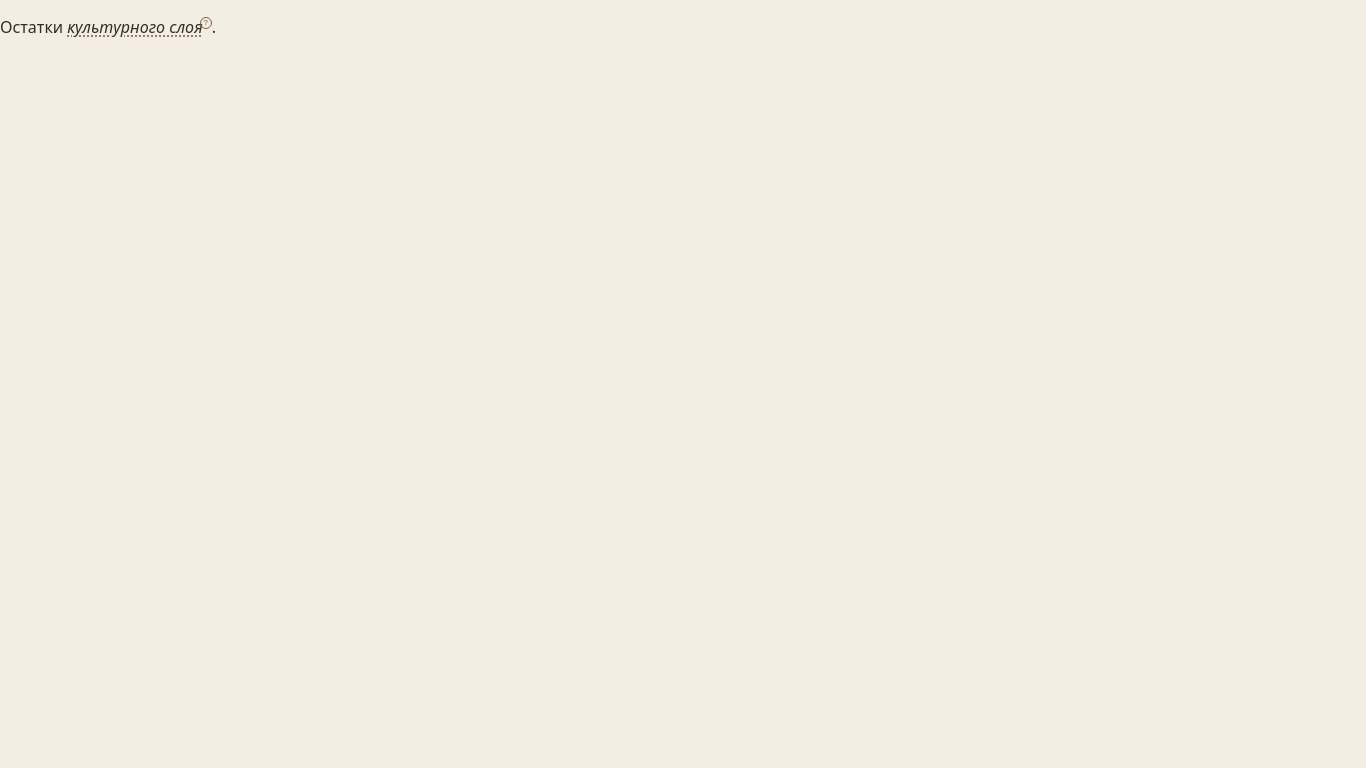
opens a definition from marked HTML, sanitizes it and closes with Escape
This screenshot has width=1366, height=768.
Click the button "культурного слоя ?": x=140, y=27 [67, 16, 212, 38]
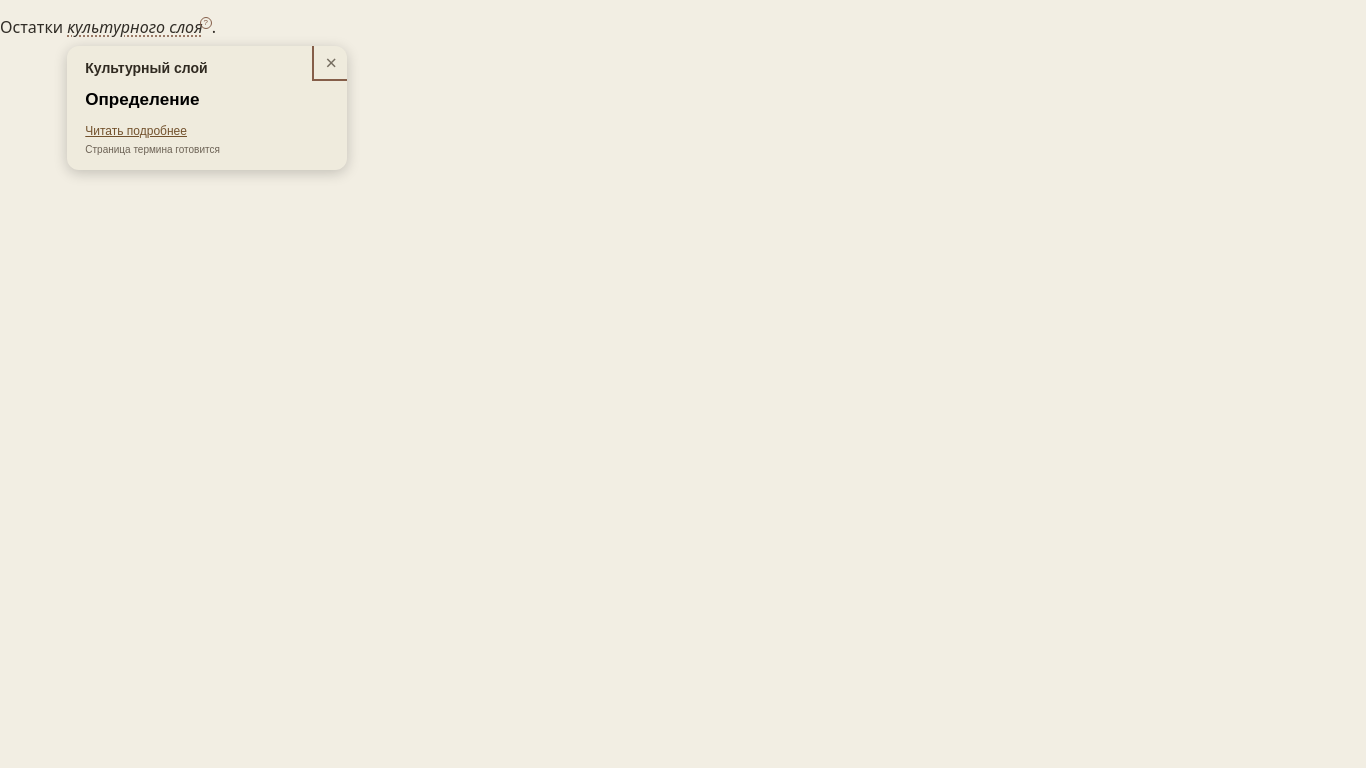
Expected: the text "Определение" is shown, [85, 90, 200, 109]
Expected: the button "Читать подробнее" is disabled, [85, 122, 187, 140]
Press Escape
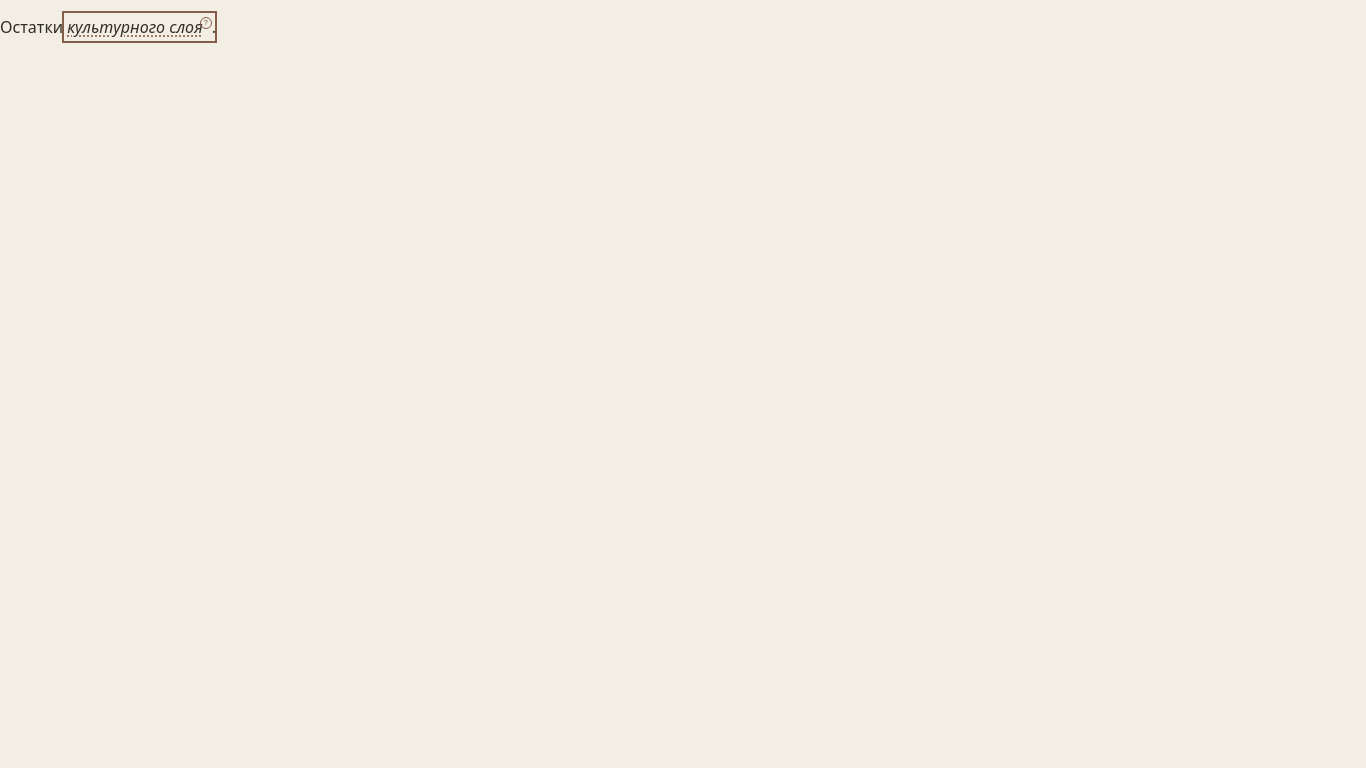
Expected: the dialog is gone
Click the button "культурного слоя ?": x=140, y=27 [67, 16, 212, 38]
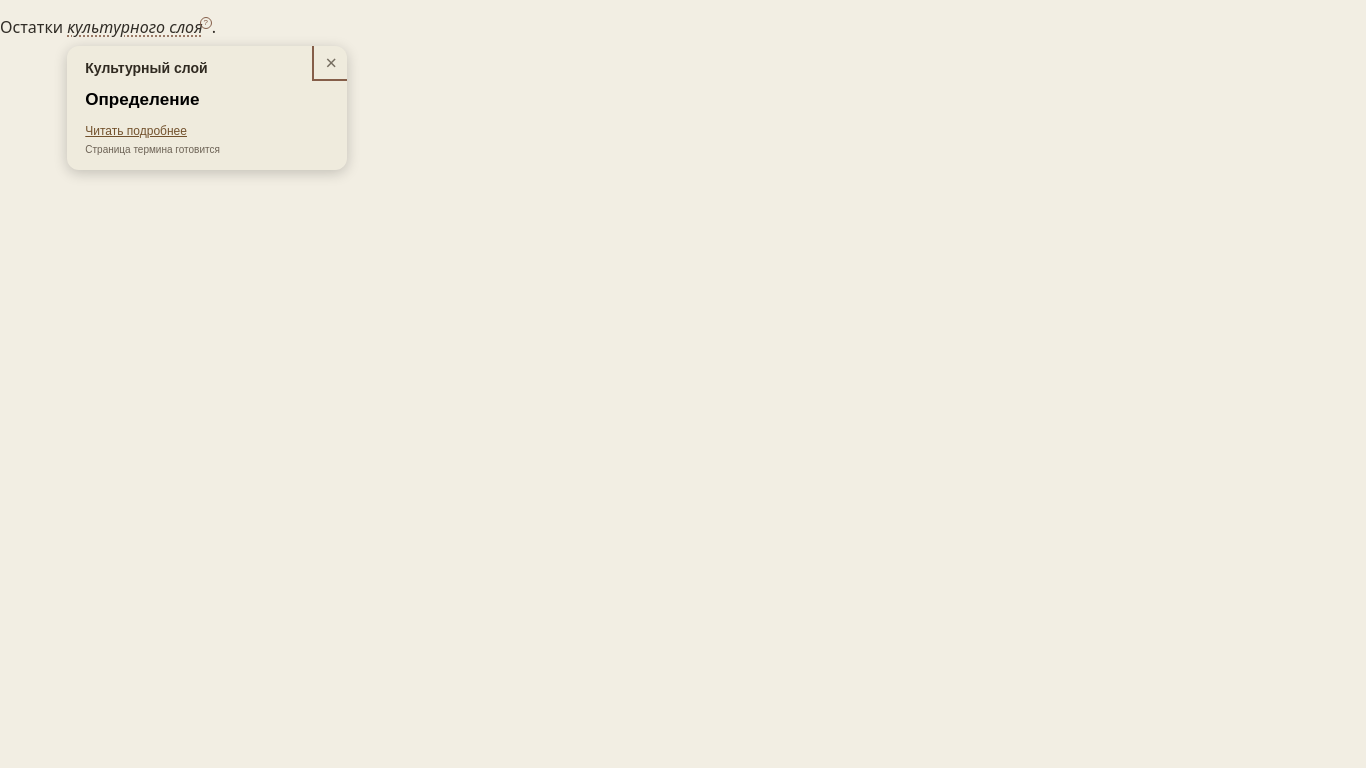
Expected: the text "Определение" is shown, [85, 90, 200, 109]
